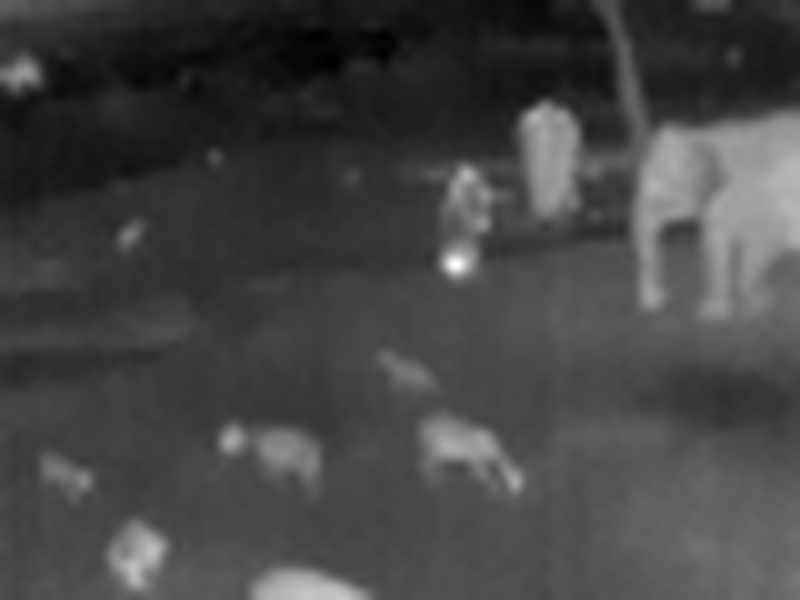elephant: (634, 119, 800, 307), (500, 90, 595, 231)
